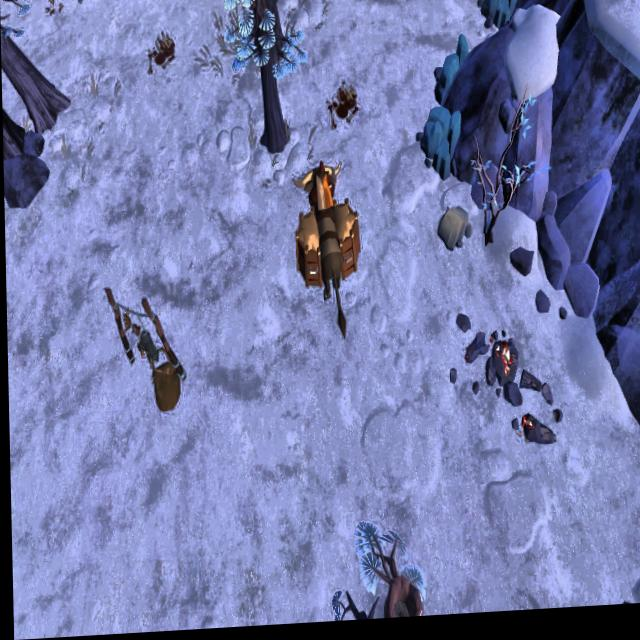rock_t4: (416, 105, 464, 179), (430, 36, 471, 106), (479, 0, 523, 43)
